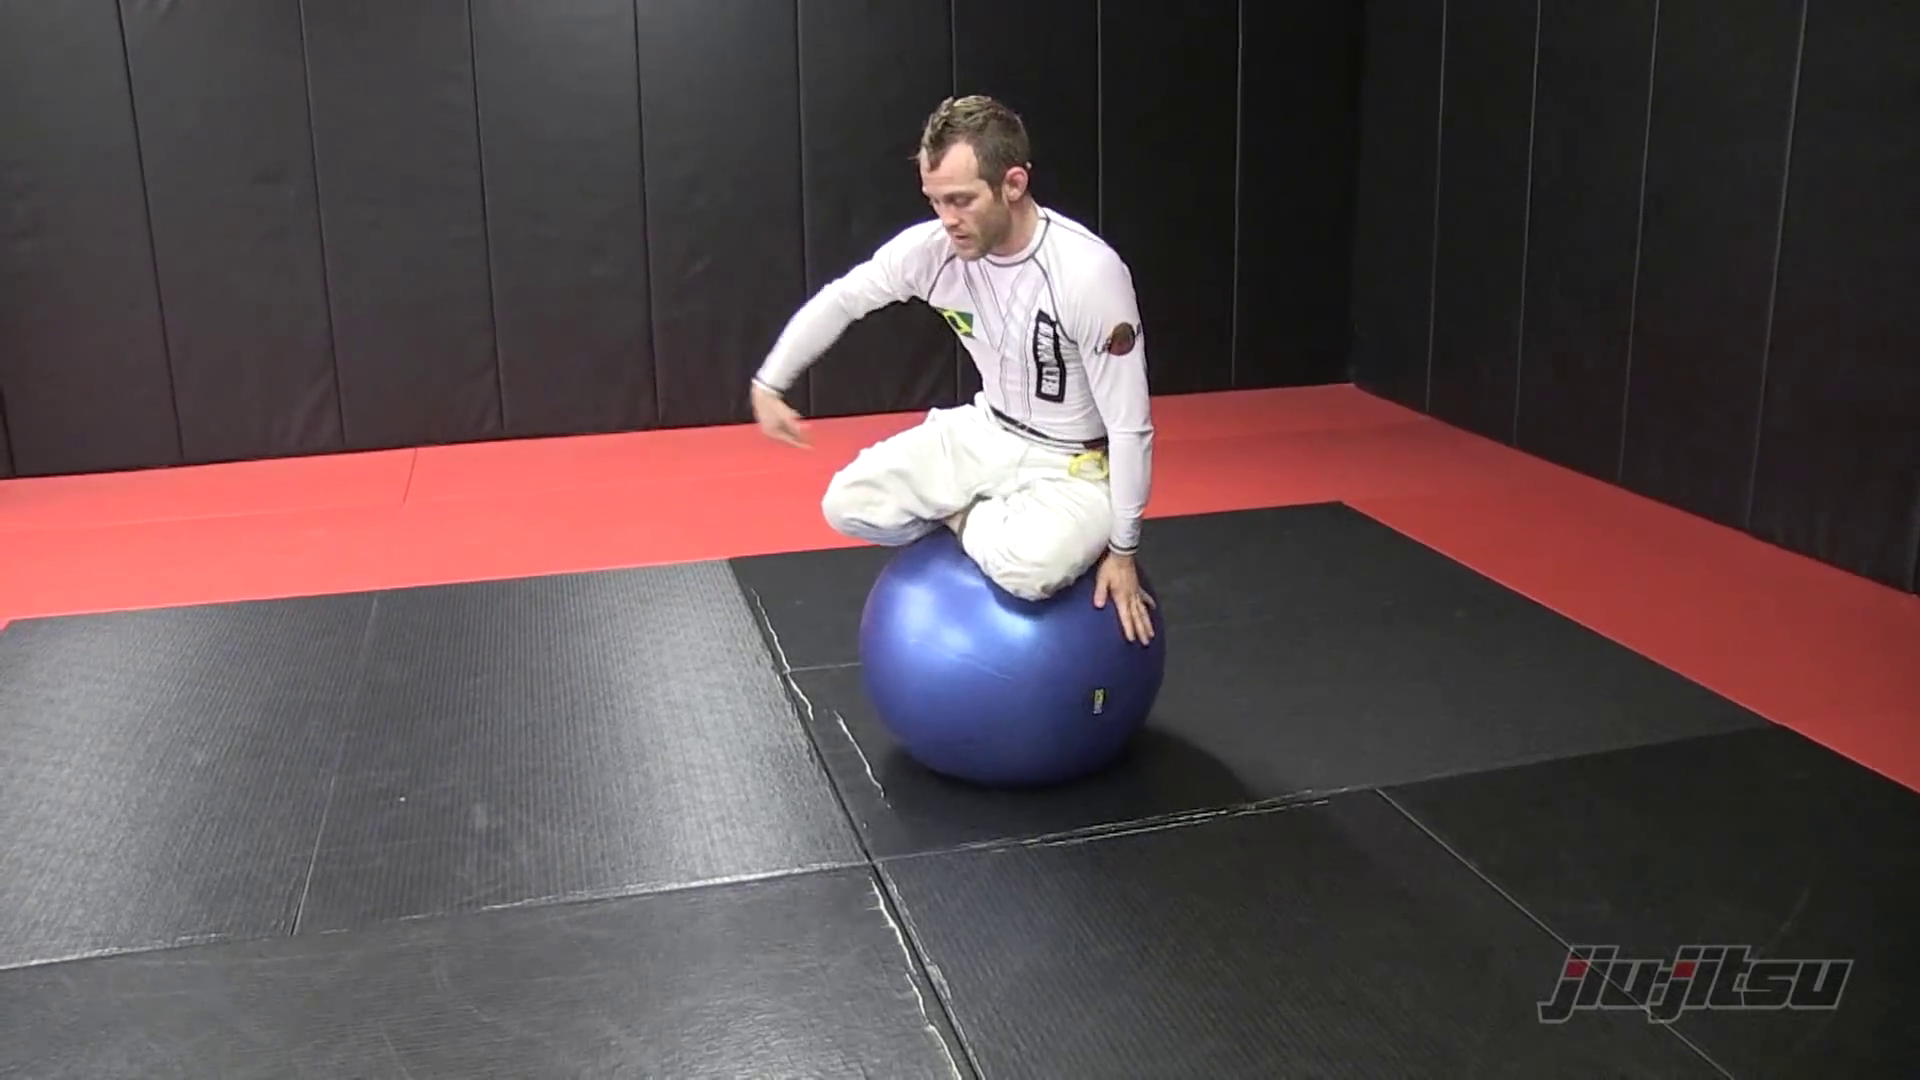yogaball: (841, 522, 1200, 795)
